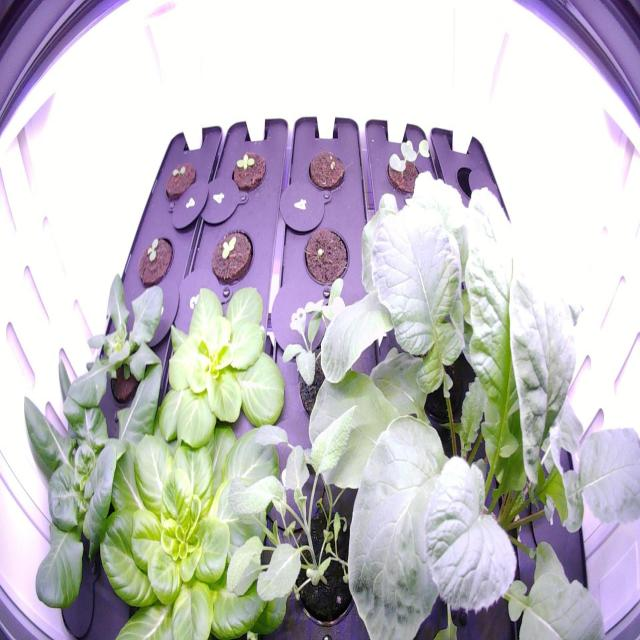empty_pod: (451, 154, 507, 224)
germination: (376, 130, 440, 211), (134, 230, 179, 292), (304, 143, 349, 197), (160, 154, 203, 207)
pod: (300, 222, 352, 291)
young: (88, 361, 306, 639), (16, 358, 181, 628), (153, 269, 293, 453), (63, 264, 183, 421), (202, 223, 260, 290), (226, 146, 269, 200)
